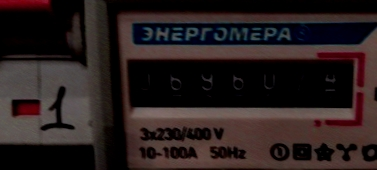0: (134, 68, 152, 93), (260, 67, 276, 93)
4: (322, 67, 336, 88)
5: (322, 89, 336, 108)
6: (165, 68, 183, 93), (229, 66, 245, 94)
7: (291, 68, 307, 94)
9: (197, 68, 214, 94)
screen: (119, 48, 366, 128)
